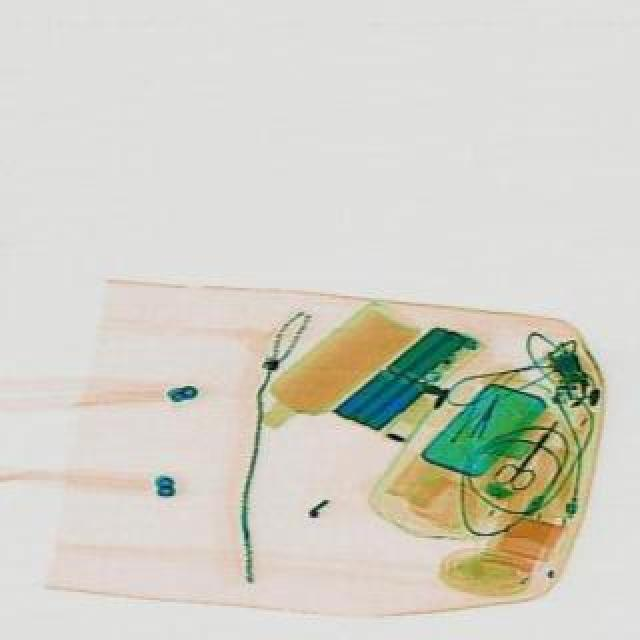pliers: (486, 410, 566, 498)
